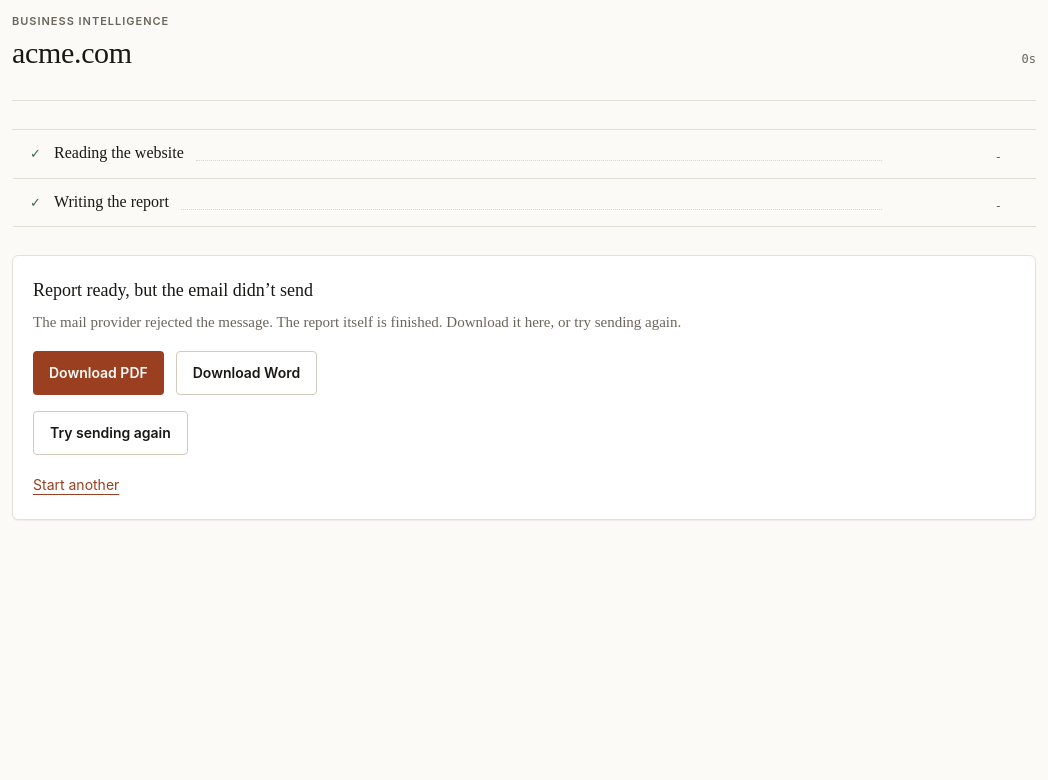
Scenario: JobPage › on a partial result, explains a resend that fails
Click the button "Try sending again" at (110, 433), box [33,411,188,455]
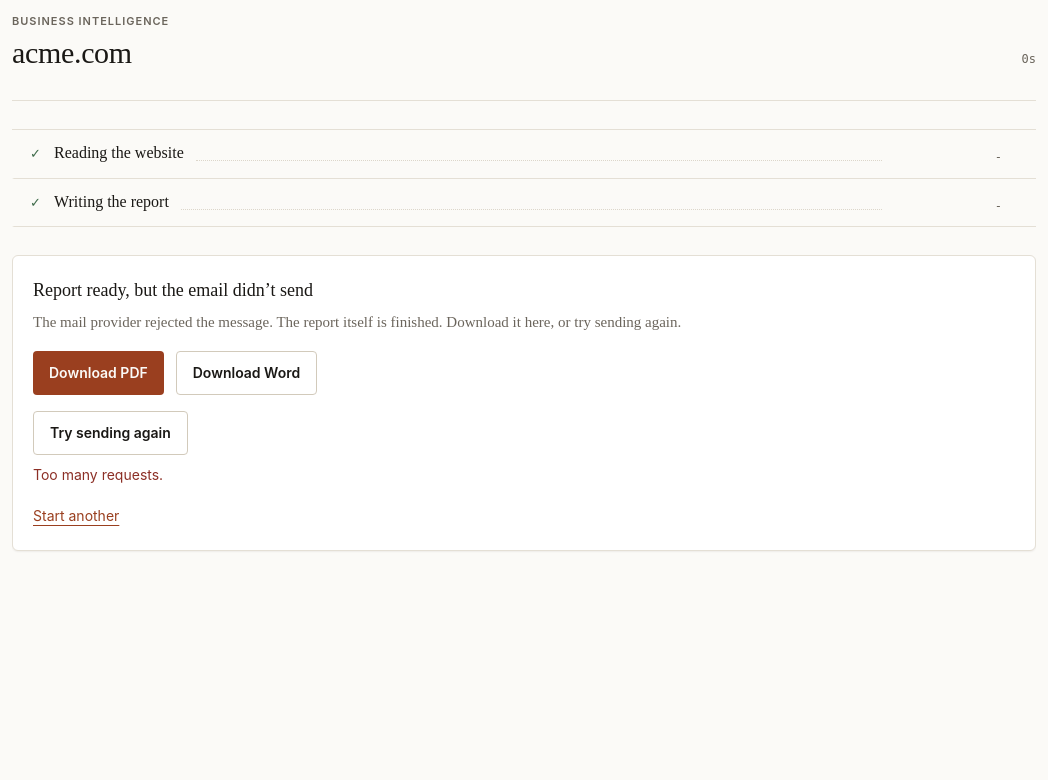
Now the text "Too many requests." is shown, box [33,466,163,483]
